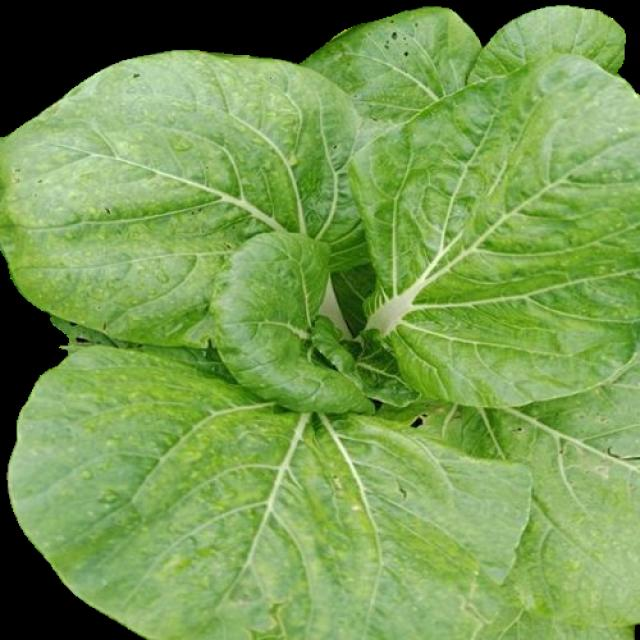mature: (1, 6, 638, 639)
unhealthy: (1, 6, 639, 639), (11, 371, 532, 640), (1, 55, 406, 344), (377, 372, 640, 631), (307, 8, 489, 124)
